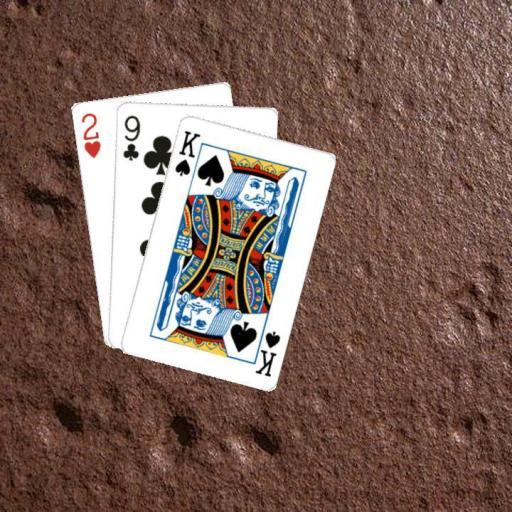2H: (78, 109, 102, 159)
9C: (119, 112, 141, 162)
KS: (249, 320, 281, 378), (172, 127, 202, 178)
